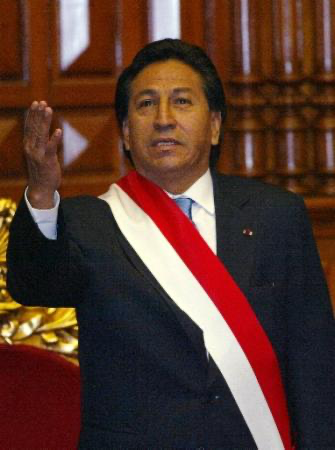Face: (129, 75, 209, 185)
